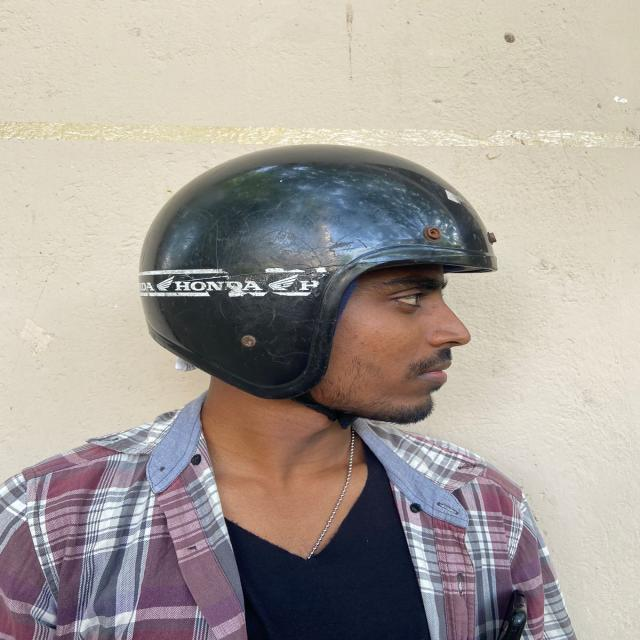With Helmet: (135, 142, 495, 400)
